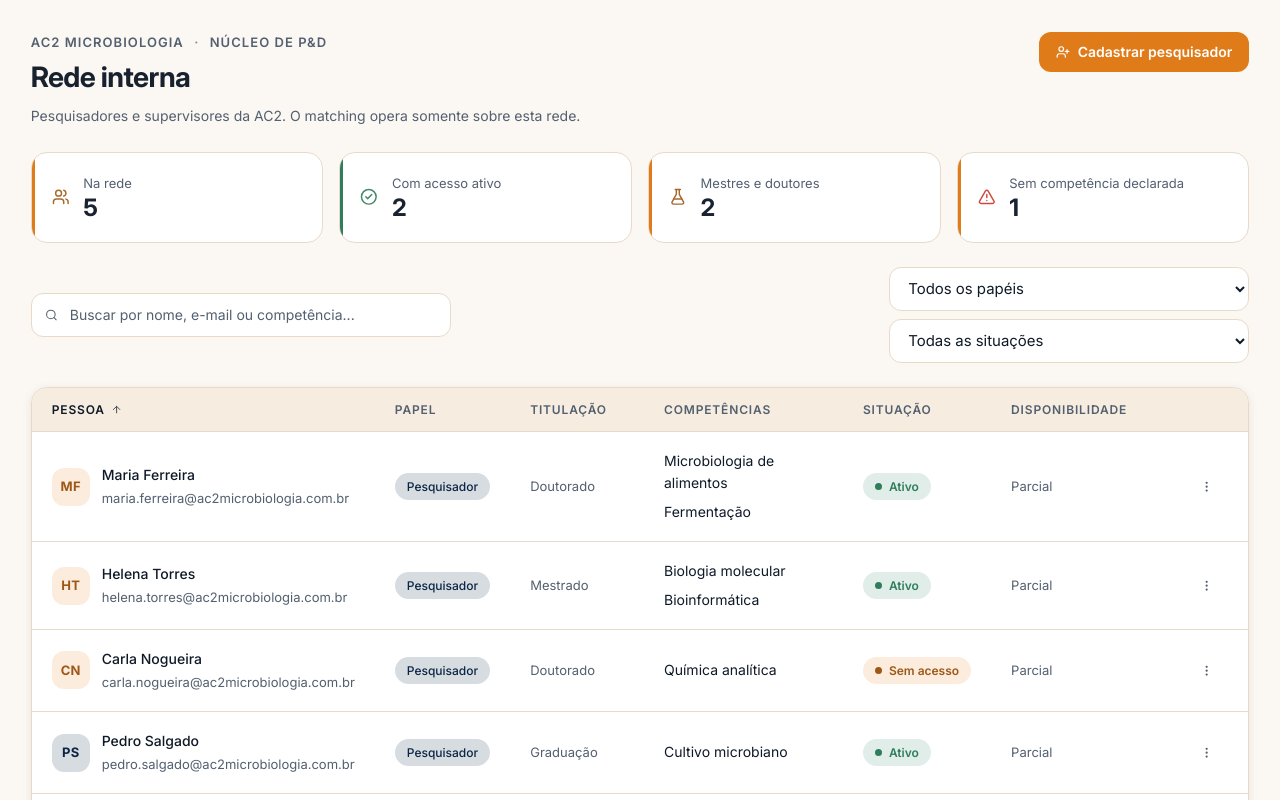
Test: RedePage › inativa pela API depois de dizer o efeito
The width and height of the screenshot is (1280, 800).
Expected: the text "Maria Ferreira" is shown, [102,466,195,483]
Click the button named "ações para maria ferreira".
click(1206, 486)  # box [1184,464,1228,508]
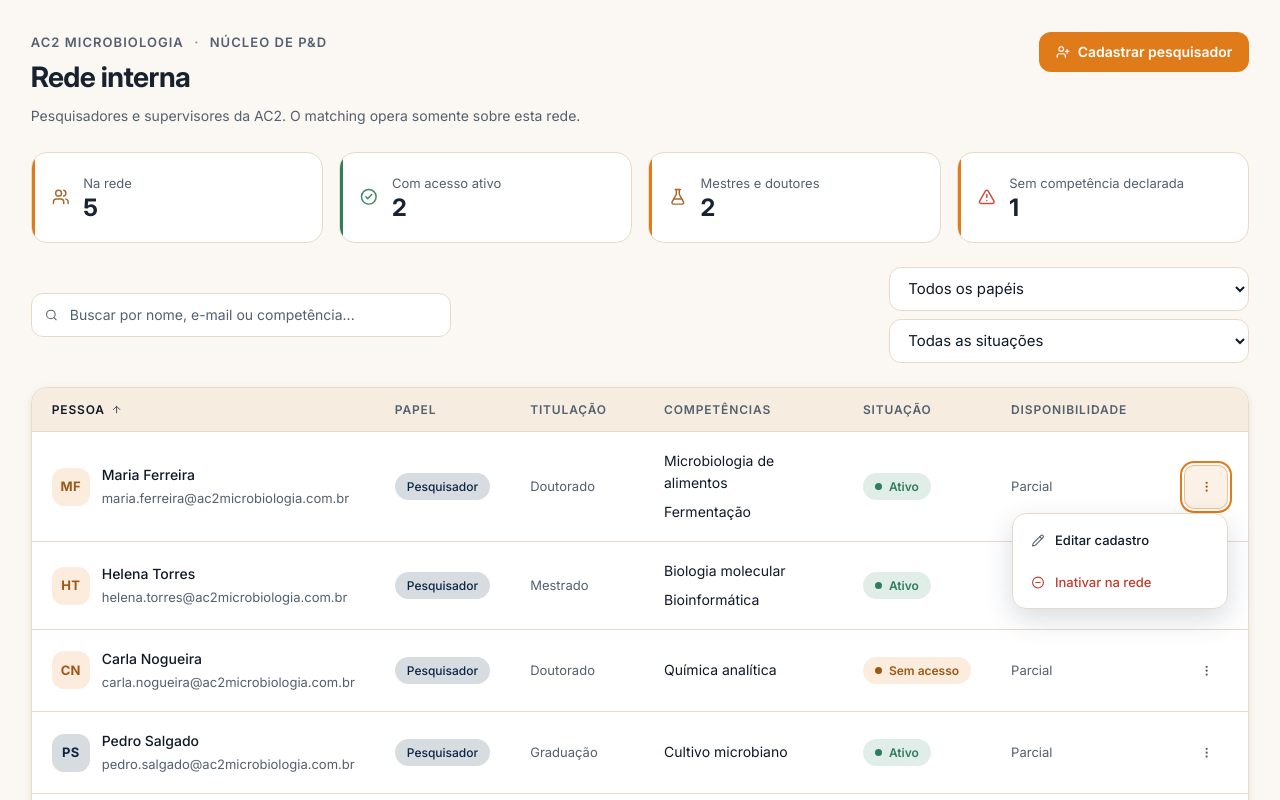
Click the menu item "Inativar na rede".
click(1120, 582)  # box [1019,562,1221,602]
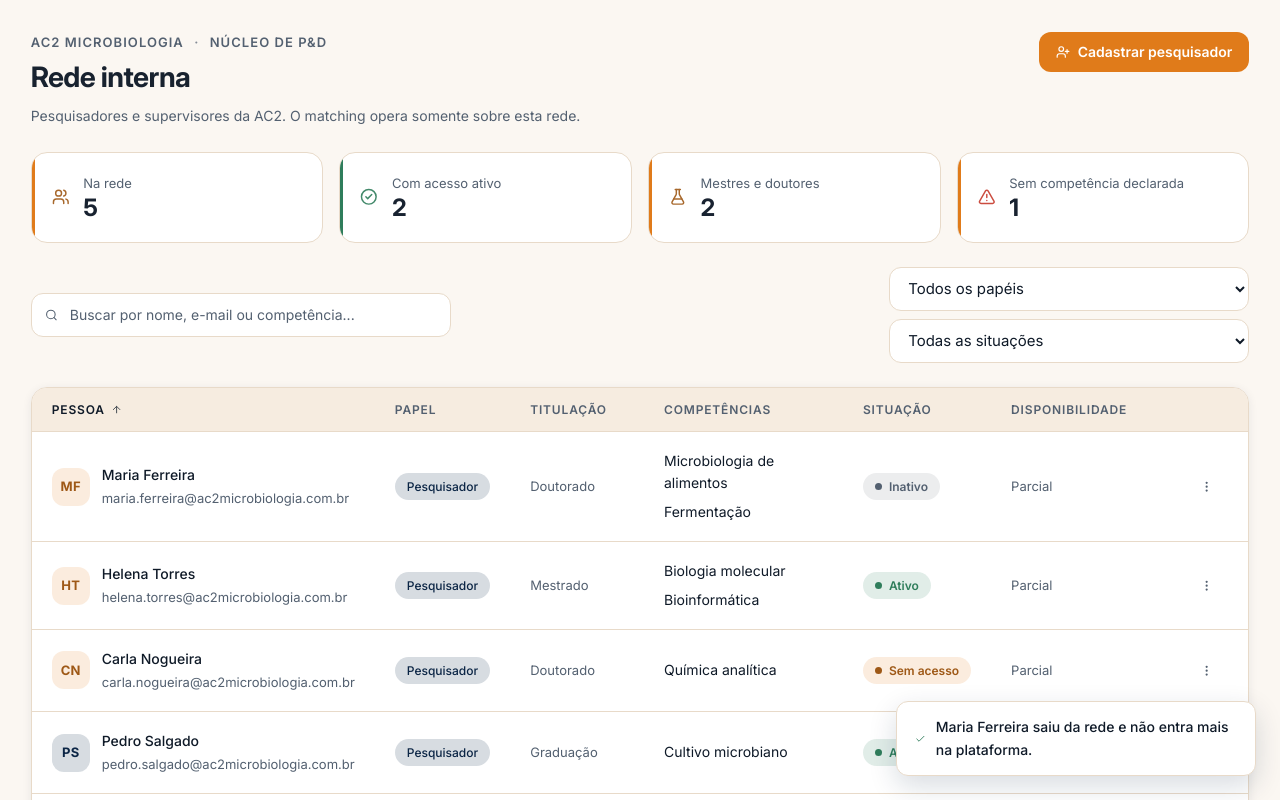
Expected: the text "Maria Ferreira saiu da rede e não entra mais na plataforma." is shown, [896,701,1256,776]
